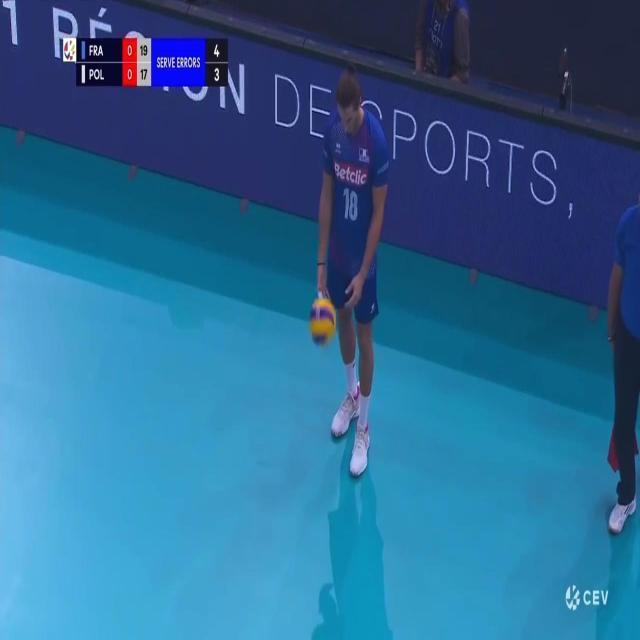volleyball: (308, 300, 336, 344)
